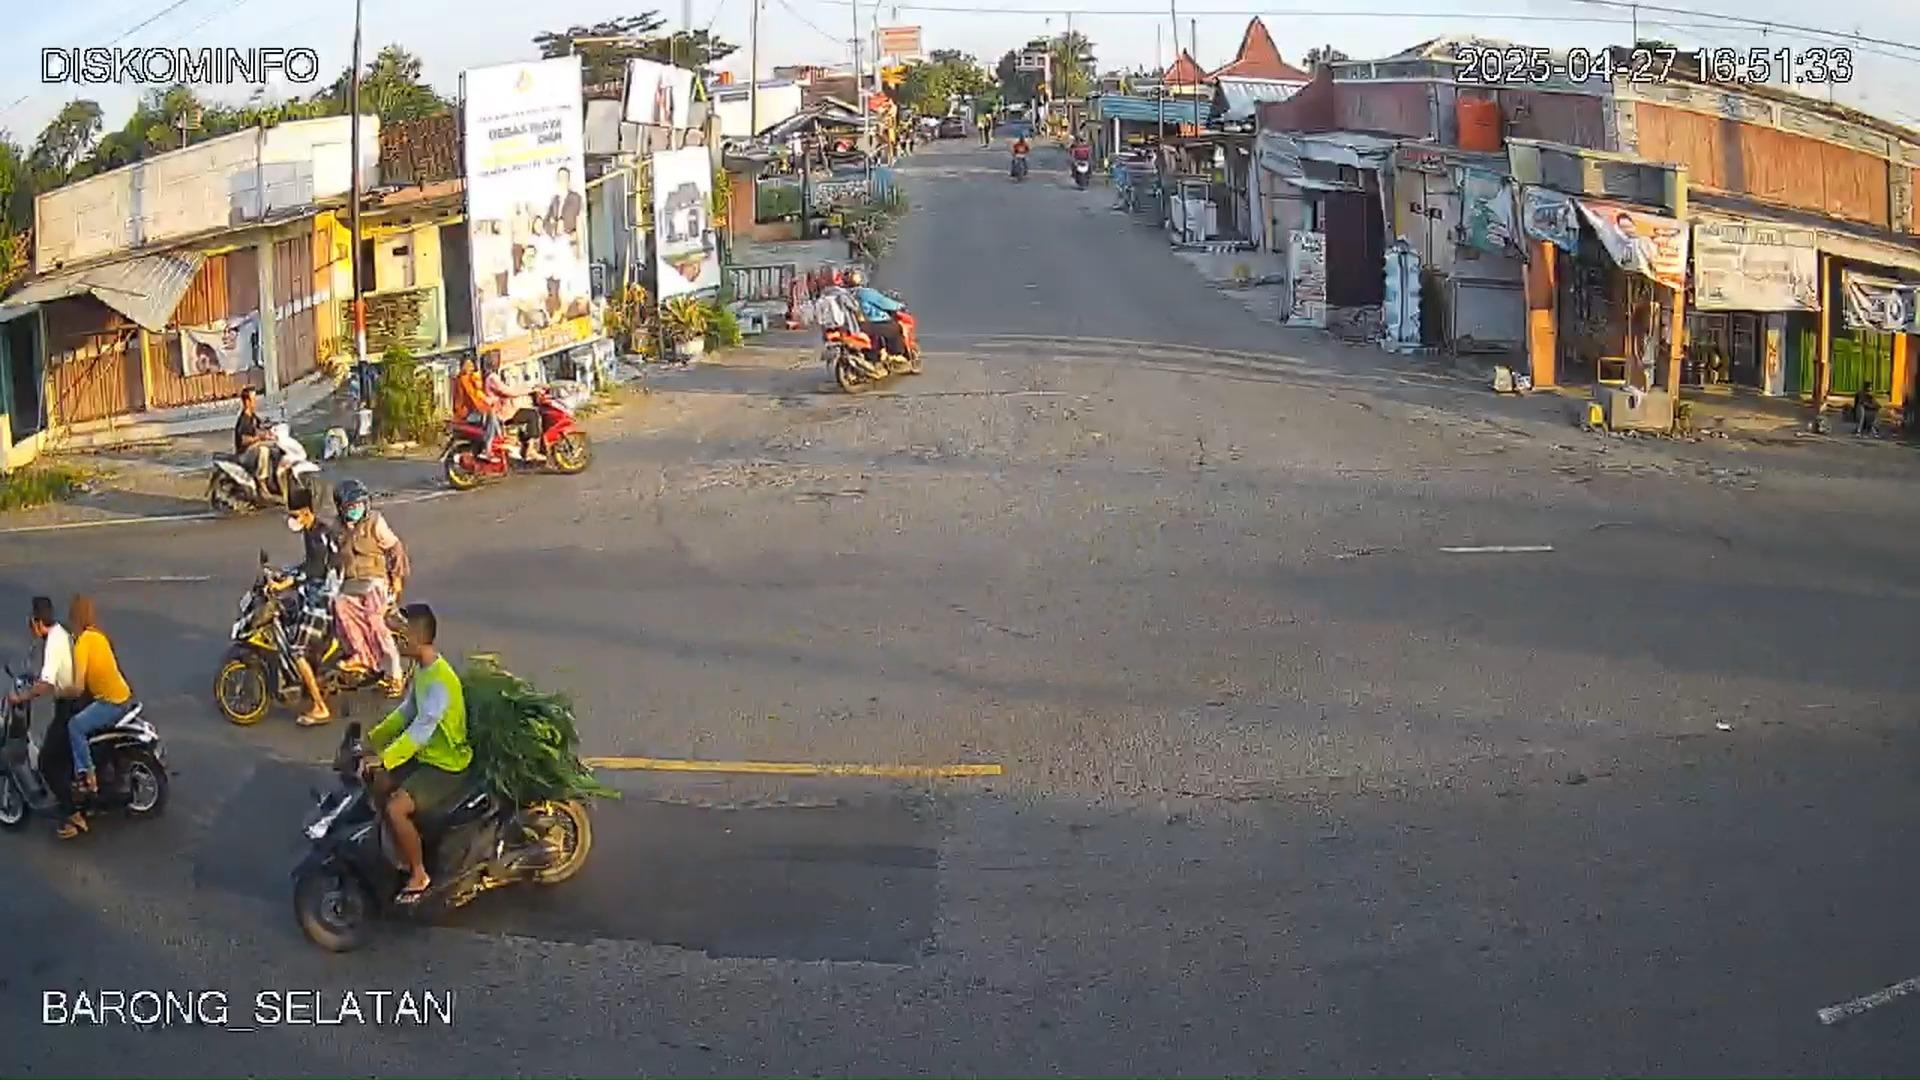Motor: (293, 608, 589, 969), (202, 525, 409, 725), (1, 654, 173, 832), (440, 378, 589, 491), (206, 417, 322, 513), (819, 297, 930, 394)
